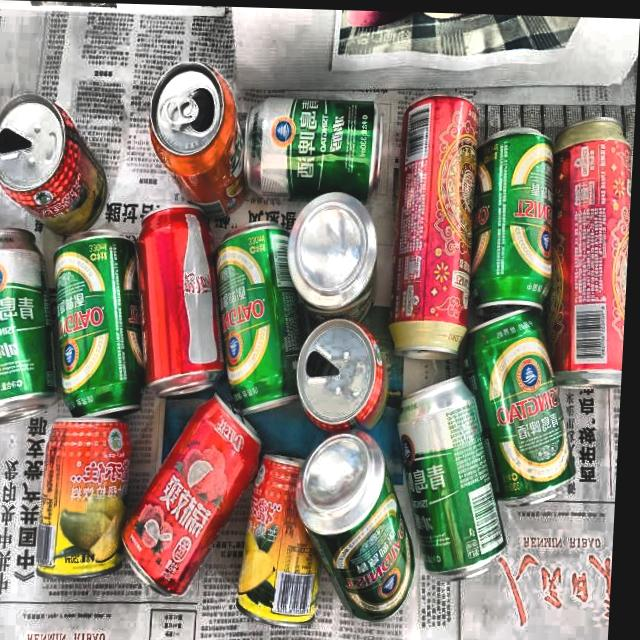can: (126, 384, 272, 603), (387, 90, 497, 360), (391, 377, 525, 590), (297, 427, 431, 625), (466, 306, 591, 511), (548, 108, 636, 393), (123, 201, 248, 396), (46, 225, 165, 423), (207, 216, 321, 416), (36, 414, 142, 596), (474, 121, 568, 313), (0, 92, 119, 241), (243, 91, 392, 204), (241, 453, 334, 630), (143, 59, 250, 206), (0, 224, 73, 439), (293, 310, 421, 432), (284, 184, 392, 314)
